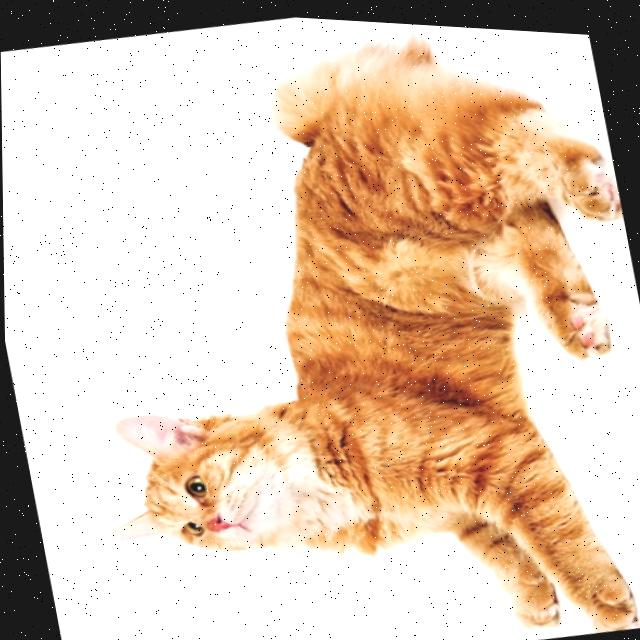American Bobtail: (12, 1, 640, 640)
